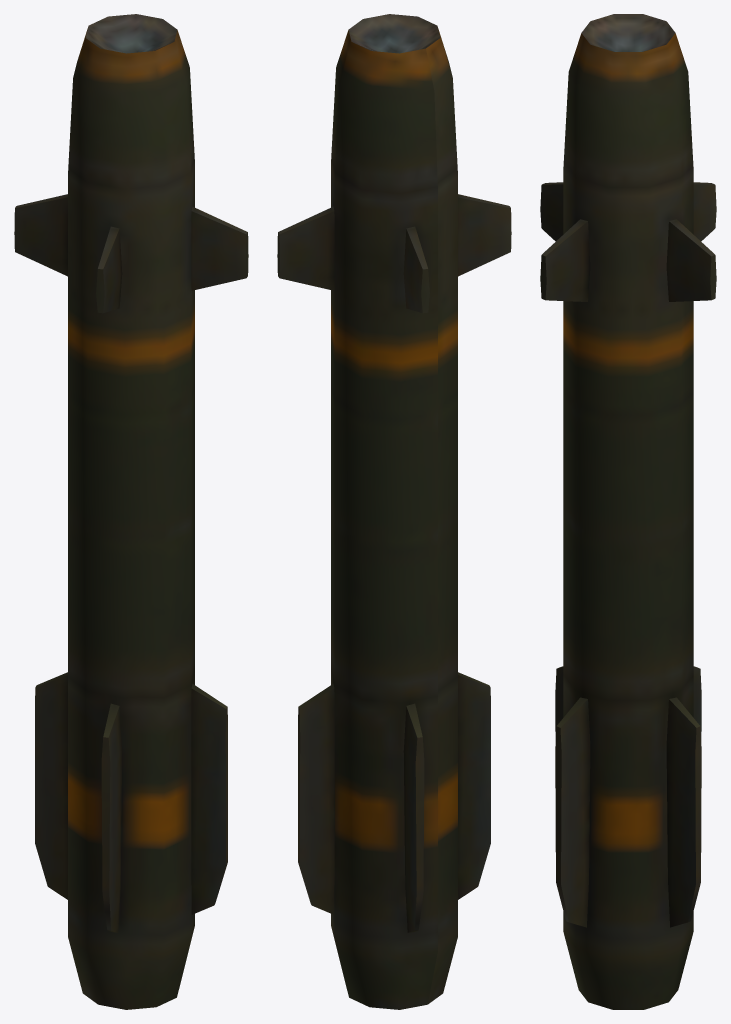
The model's file is hellfire_MSL.fbx.
3 renders of one model, left to right at view 1: azimuth 30°, elevation 25°; view 2: azimuth 150°, elevation 25°; view 3: azimuth 270°, elevation 25°, orthographic.
Visible parts, largest first — view 1: rocket_1; view 2: rocket_1; view 3: rocket_1.
Part boxes in pixels (x1,y1,x2,y2): rocket_1: [14, 14, 248, 1009]; rocket_1: [277, 14, 511, 1009]; rocket_1: [540, 14, 716, 1009].
Bounding box in the file's own units: 0.1695 × 1.02 × 0.1695.
